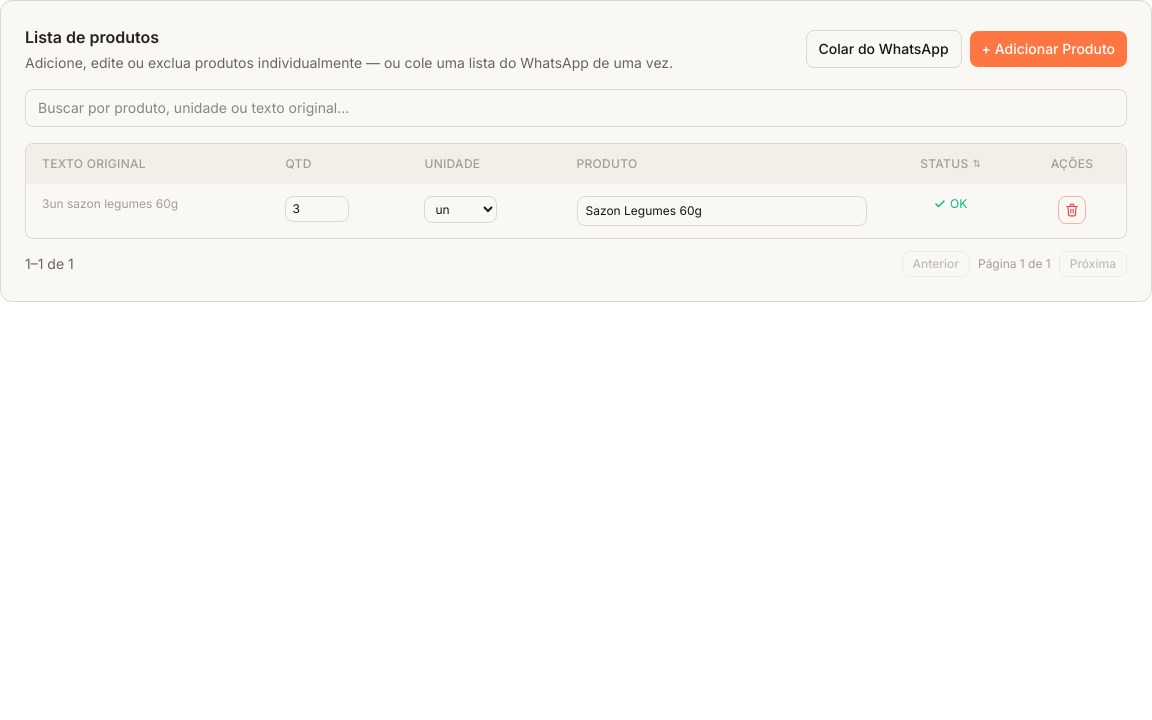
Test: GridProdutosSection — excluir › clicar em Excluir abre um modal de confirmação (não window.confirm)
The image size is (1152, 720).
Step 1. Click the button named "Excluir" → (1072, 210), box left=1058, top=196, right=1086, bottom=224
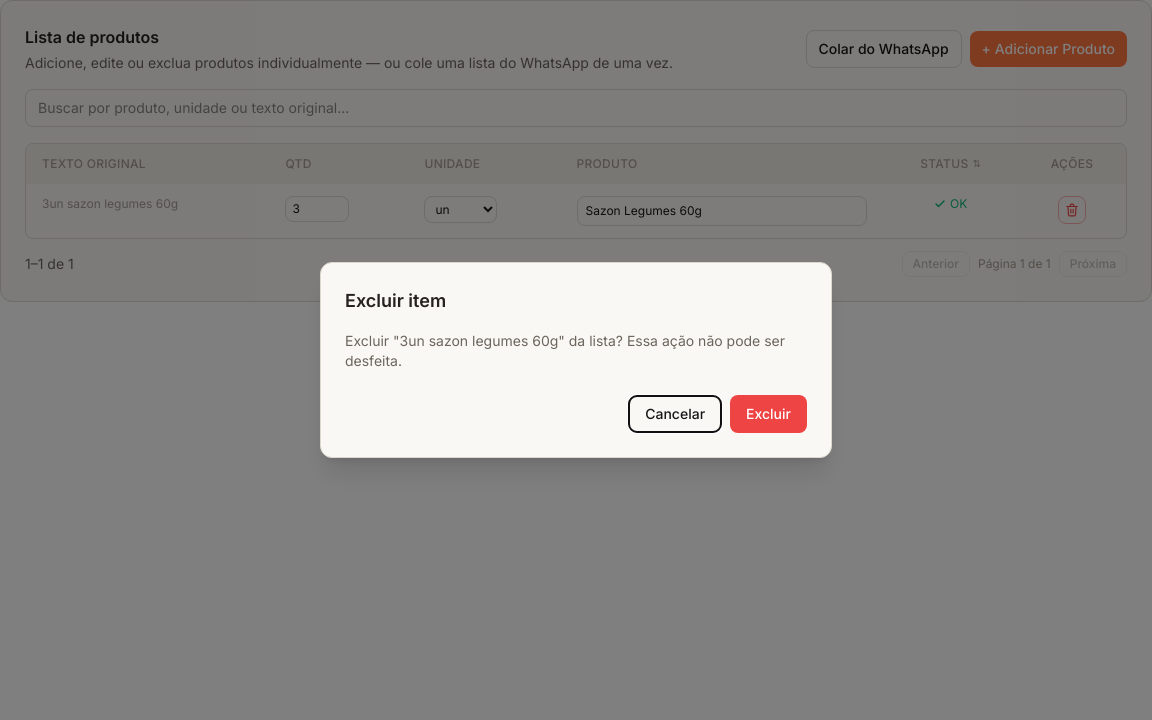
Result: the dialog is shown at left=320, top=262, right=832, bottom=458
